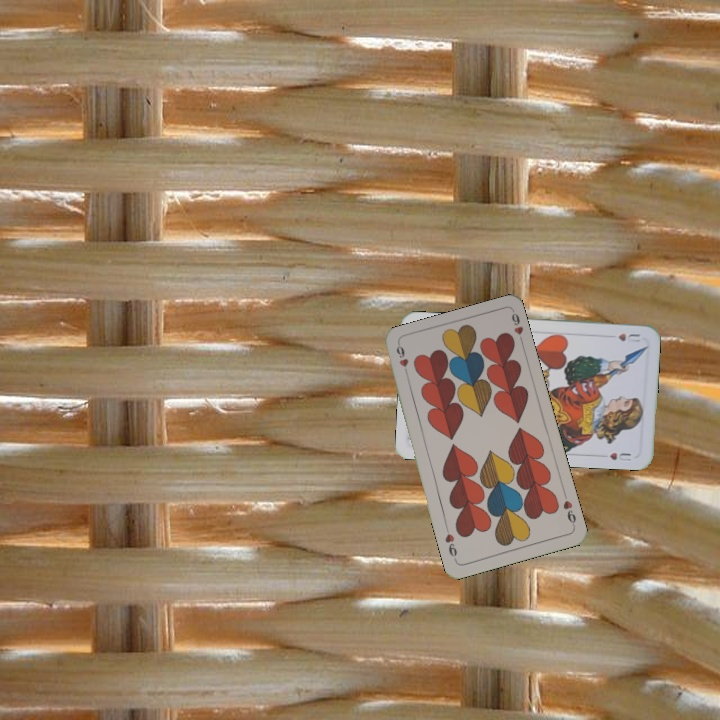H9: (559, 490, 579, 530), (392, 341, 412, 381)
HU: (614, 329, 643, 345)
